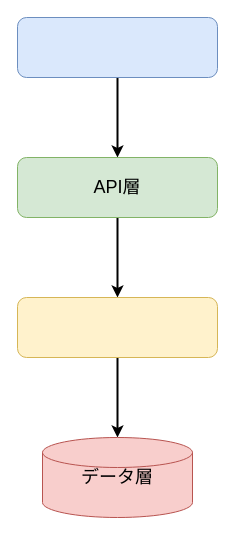
The diagram is 235 pixels wide and 535 high, and some of its shapes have lost their labels. The centre of each missing label's shape, as x and y in pixels:
サービス層: point (117, 327)
プレゼンテーション層: point (117, 47)
